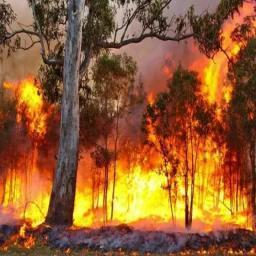Heavy smoke: (7, 12, 209, 102)
Large fire: (0, 61, 256, 256)
